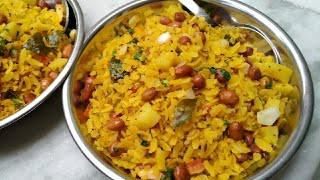Poha: (75, 0, 294, 180), (0, 0, 76, 120)
